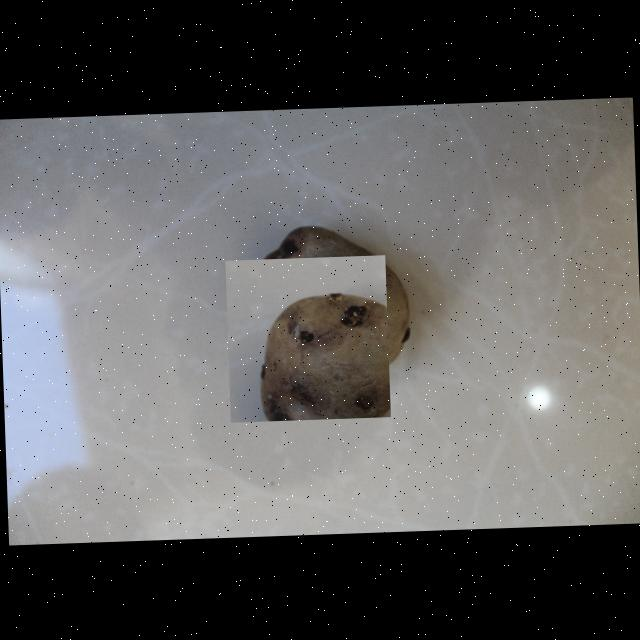Diseased-fungal potato: (223, 254, 390, 421)
